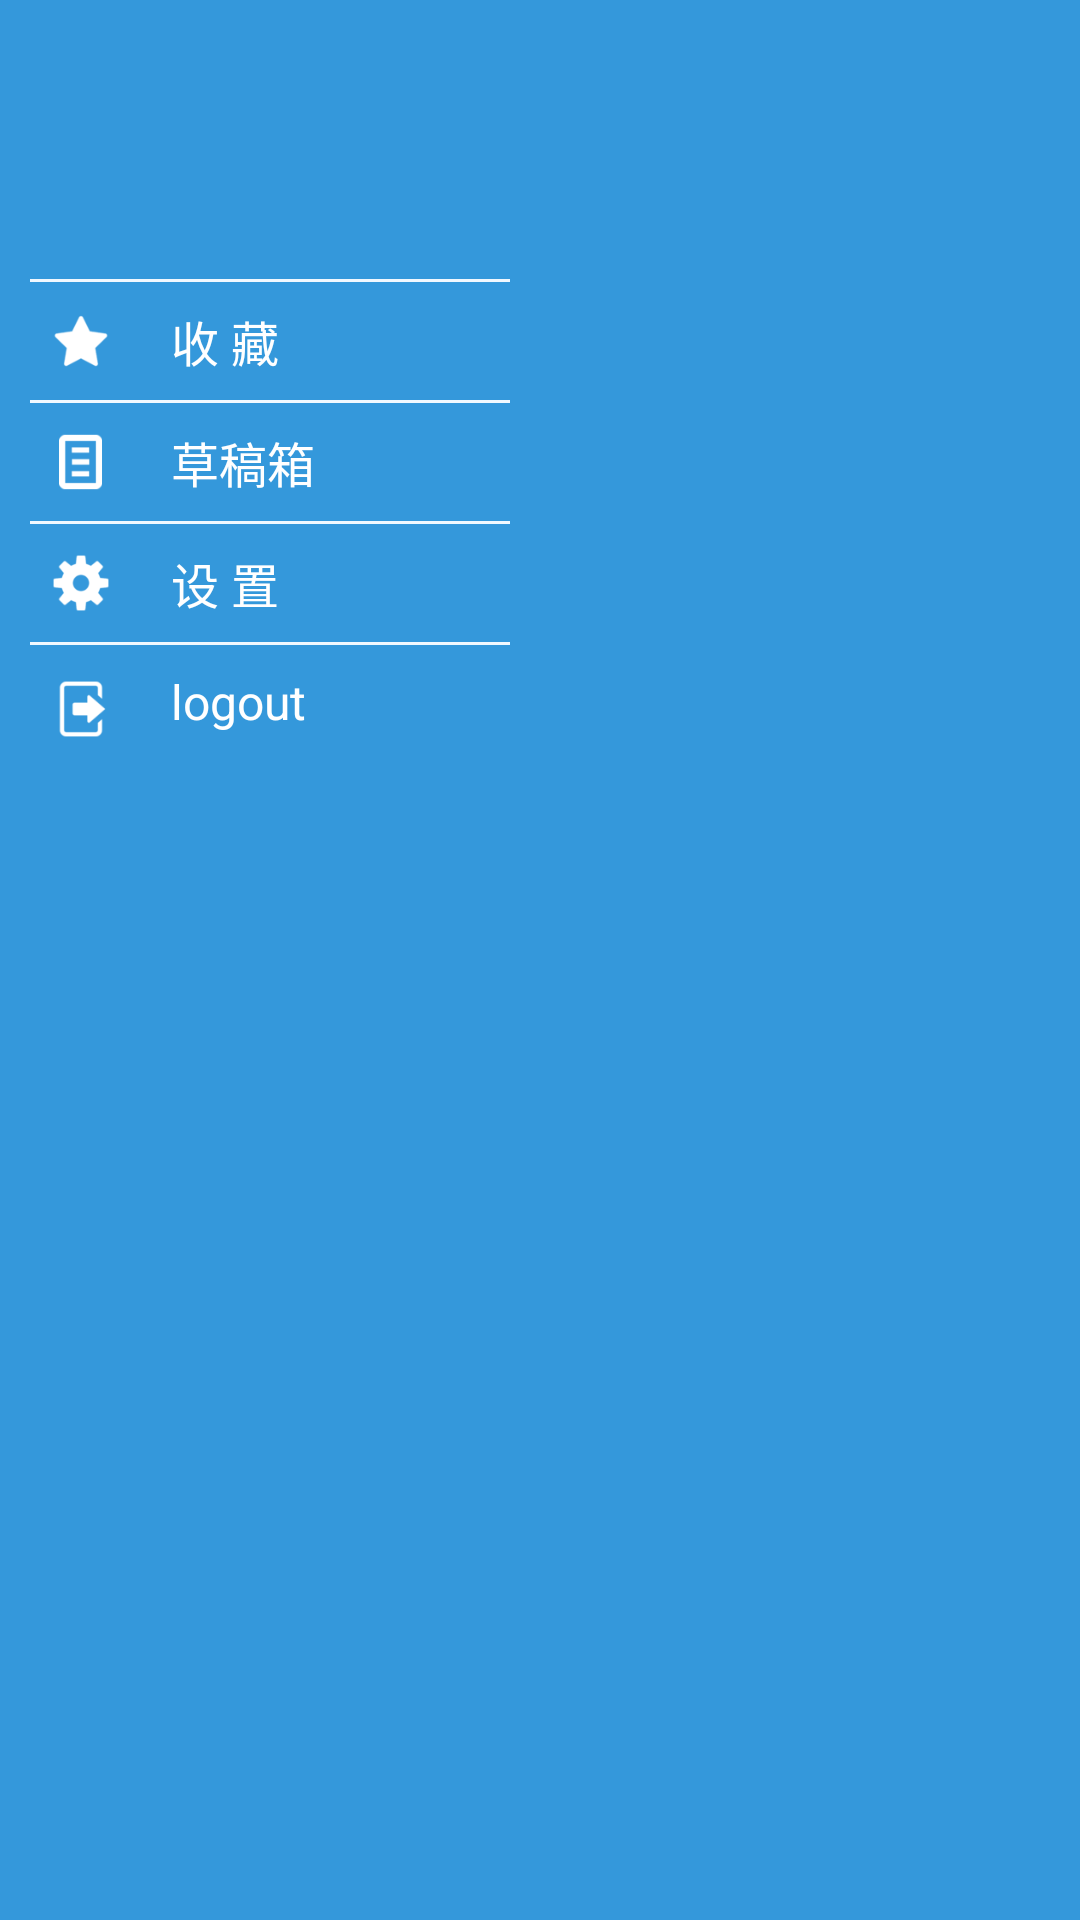

Icon click points for this 1080×1920 phone screenshot, format (x=x, y=y):
collection: (x=81, y=341)
draft: (x=80, y=462)
exit: (x=82, y=709)
settings: (x=81, y=583)
